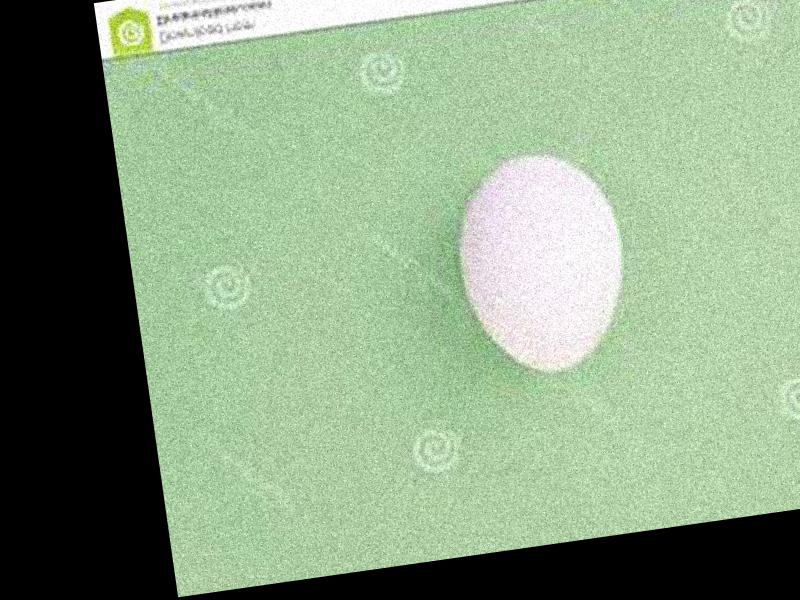Eggs: (445, 145, 634, 380)
